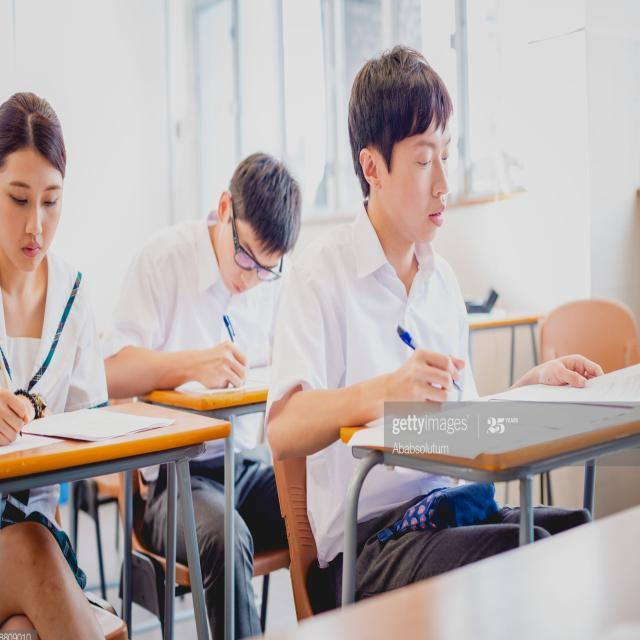good: (252, 40, 634, 427), (0, 77, 186, 448), (90, 140, 316, 411)
